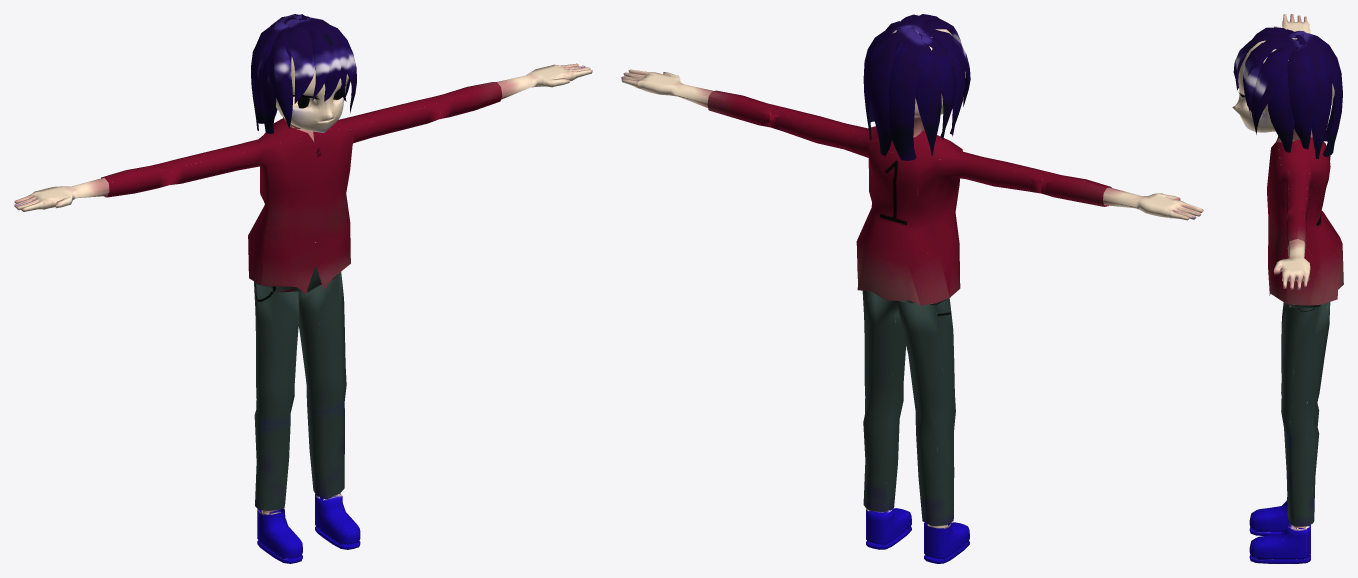
The model's file is Monster.fbx.
3 views of the same model, side by side, from view 1: azimuth 30°, elevation 25°; view 2: azimuth 150°, elevation 25°; view 3: azimuth 270°, elevation 25° (orthographic). The views are drawn at different scales.
Visible parts, largest first — view 1: Cloth, Body, Hair; view 2: Cloth, Hair, Body; view 3: Cloth, Hair, Body.
Boxes of the visible parts, <box> form: Cloth: <box>101,82,502,510</box>; Body: <box>14,20,592,563</box>; Hair: <box>251,14,356,133</box>; Cloth: <box>707,90,1111,525</box>; Hair: <box>863,14,970,160</box>; Body: <box>621,29,1203,563</box>; Cloth: <box>1267,136,1343,526</box>; Hair: <box>1233,27,1342,158</box>; Body: <box>1232,14,1334,563</box>.
Bounding box in the file's own units: 20.24 × 17.58 × 3.49.
3 materials, 3 textured.
